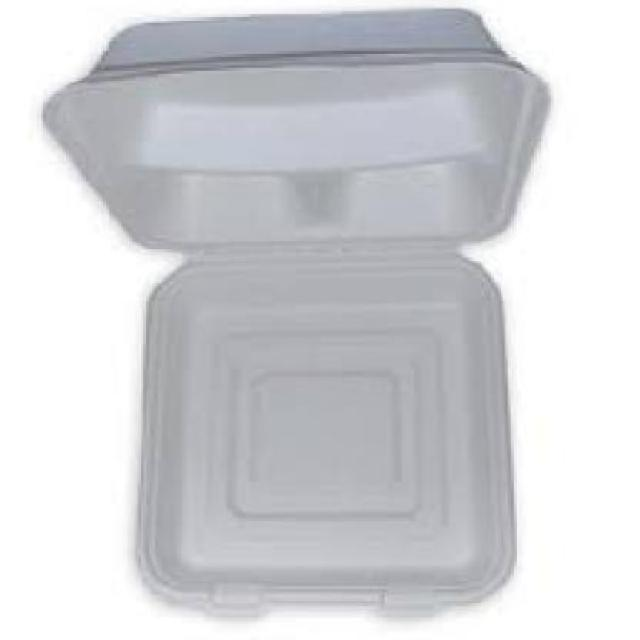PAPER: (46, 20, 554, 620)
